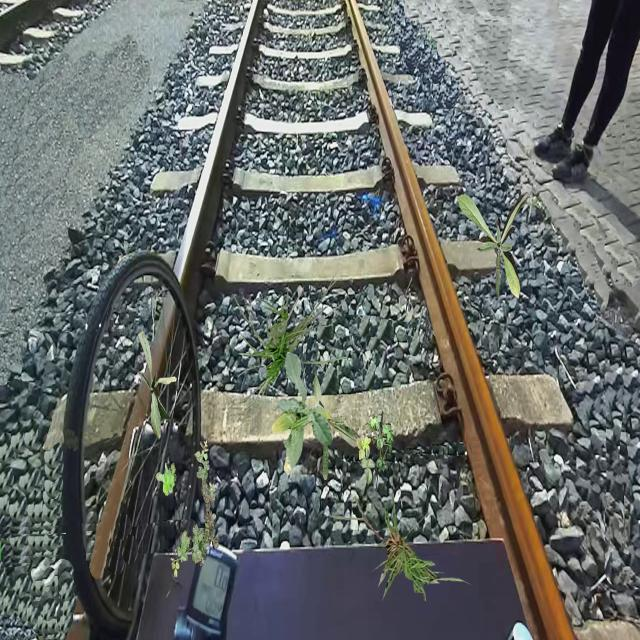Plant: (230, 263, 348, 427), (331, 485, 474, 604), (271, 351, 334, 476), (458, 192, 530, 300), (298, 369, 362, 481), (170, 439, 218, 577), (137, 330, 177, 440), (356, 411, 394, 484), (156, 463, 176, 496)
